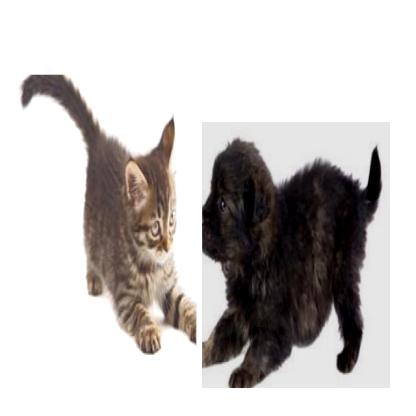cat: (19, 75, 196, 359)
dog: (202, 122, 390, 388)
